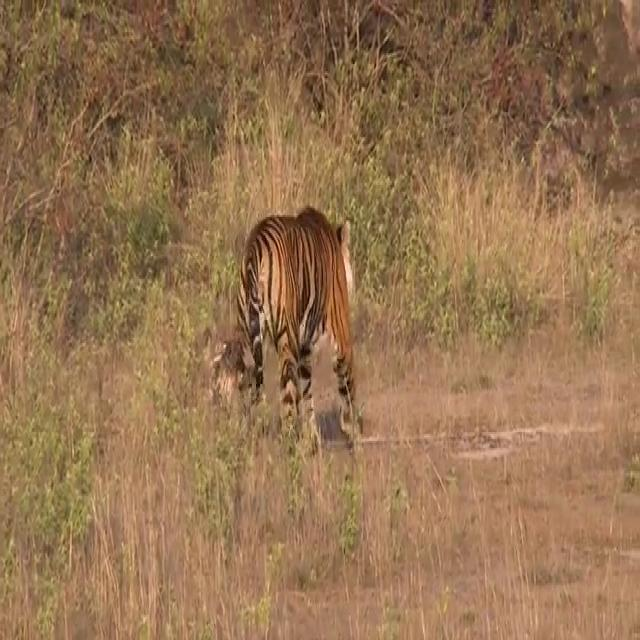tiger: (235, 204, 358, 464)
